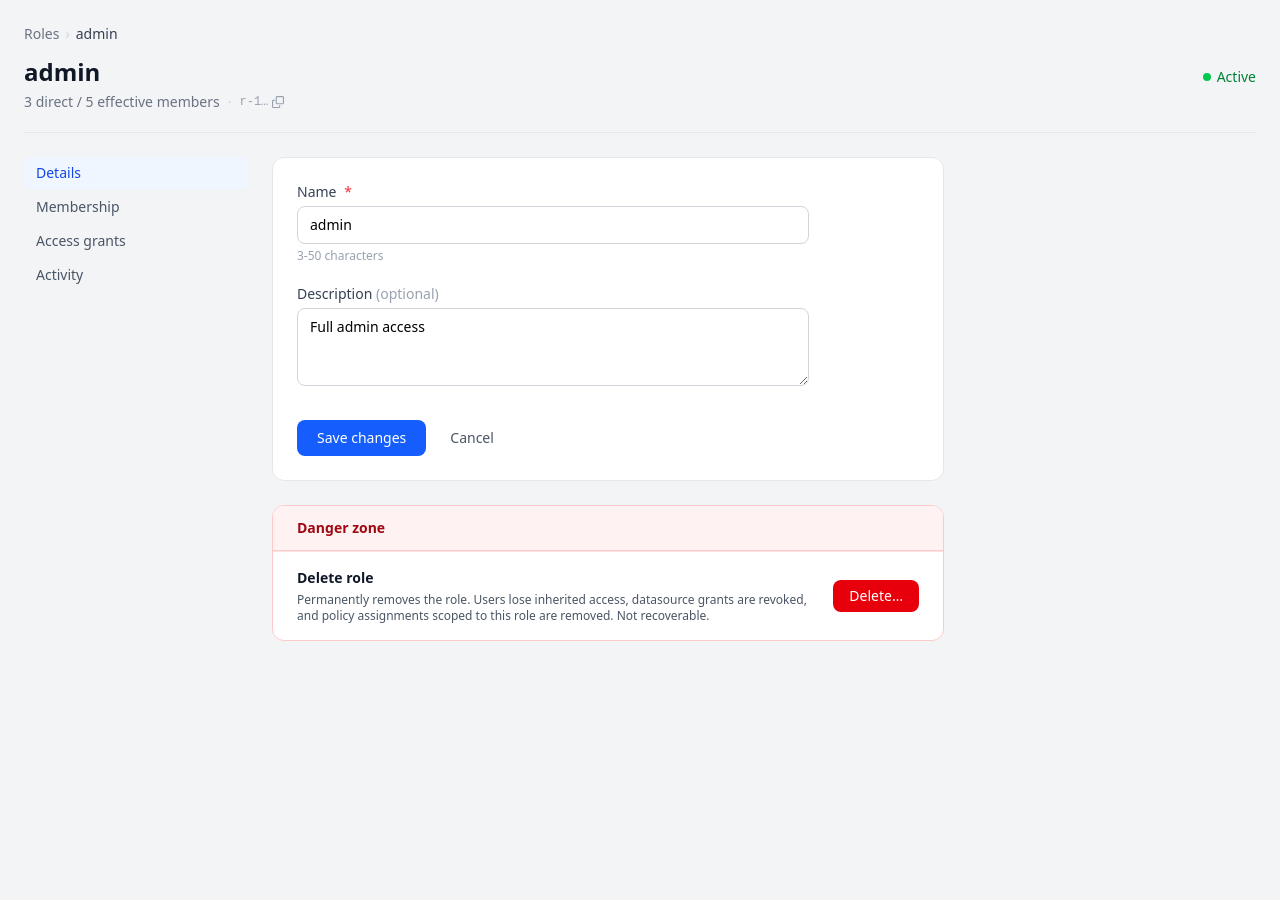
RoleEditPage — danger zone › opens a typed-name delete modal (no native confirm)
The image size is (1280, 900).
Expected: the field showing "admin" is shown, [297,206,809,244]
Click the button "Delete…". click: [876, 596]
box: [833,580,919,612]
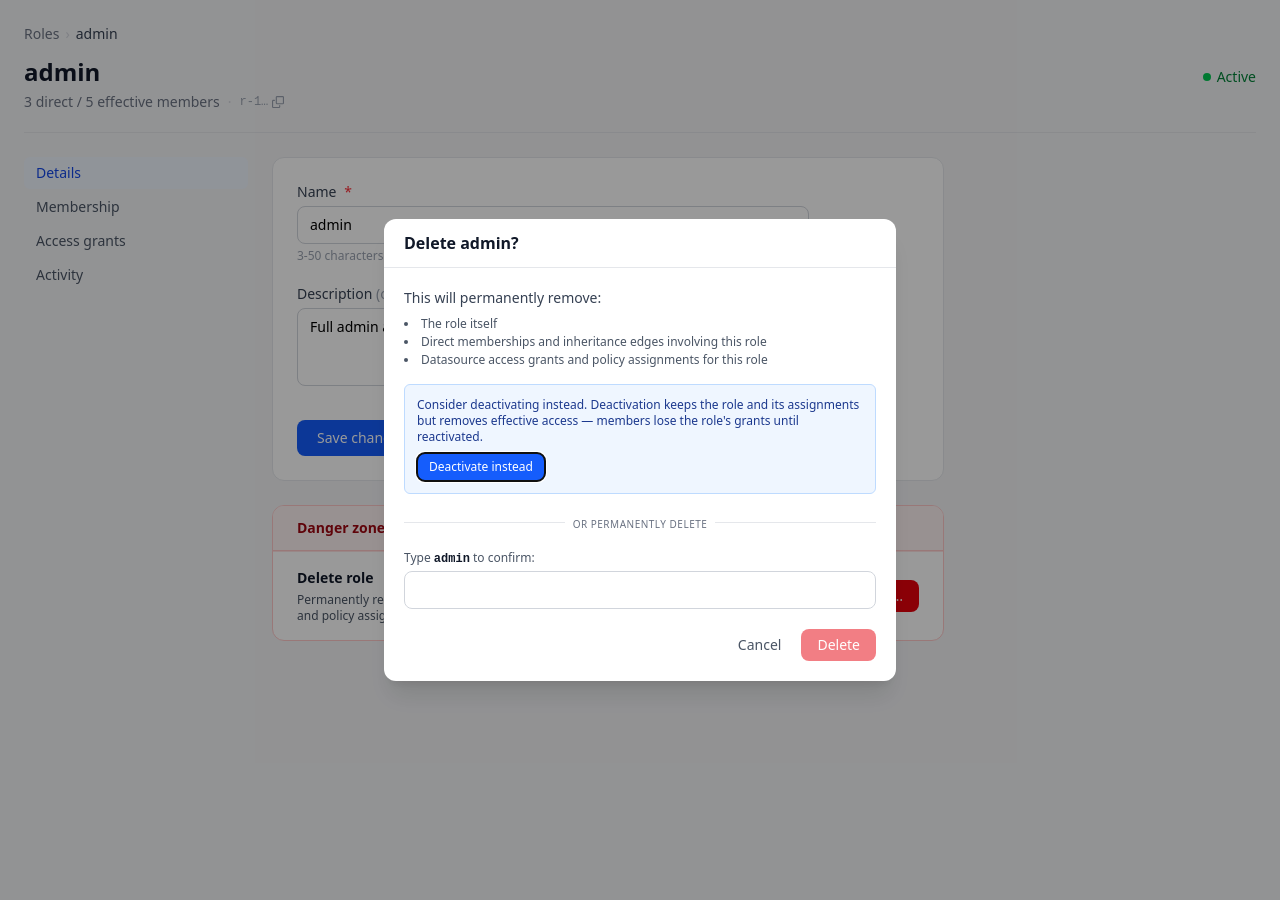
Result: the dialog "Delete admin?" is shown
